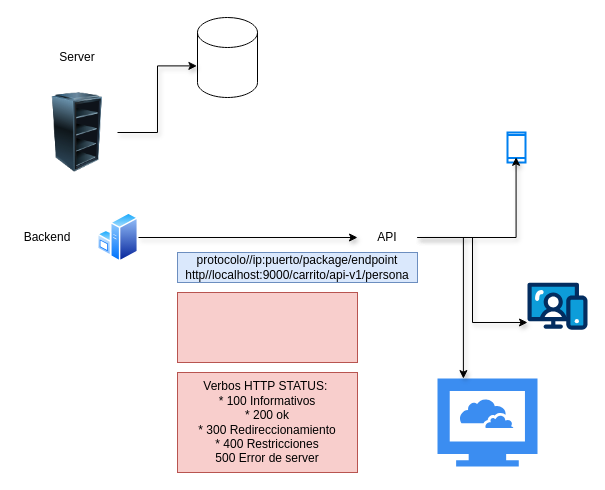
This 605x490 diagram has some shape labels left out. Each missing label, with the centre of its shape:
"BD" goes at [227,57].
"Verbos http: * POST * PUT * DELETE * GET" goes at [267,327].
